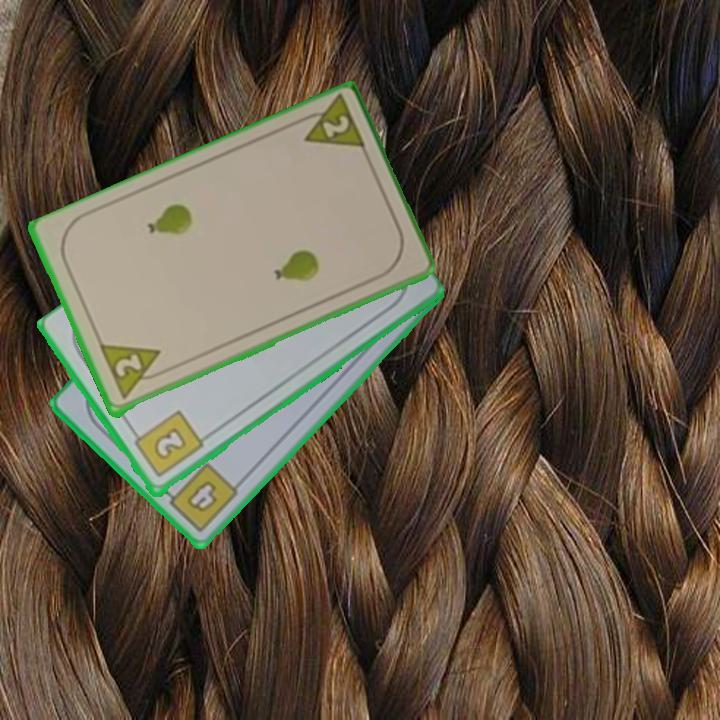2b: (128, 407, 206, 481)
2p: (291, 94, 369, 156), (96, 341, 171, 403)
4b: (159, 459, 242, 536)
